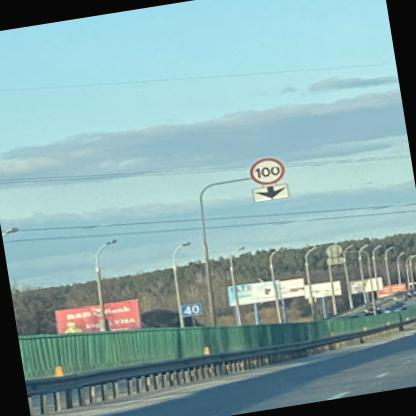speedlimit: (246, 154, 284, 186)
